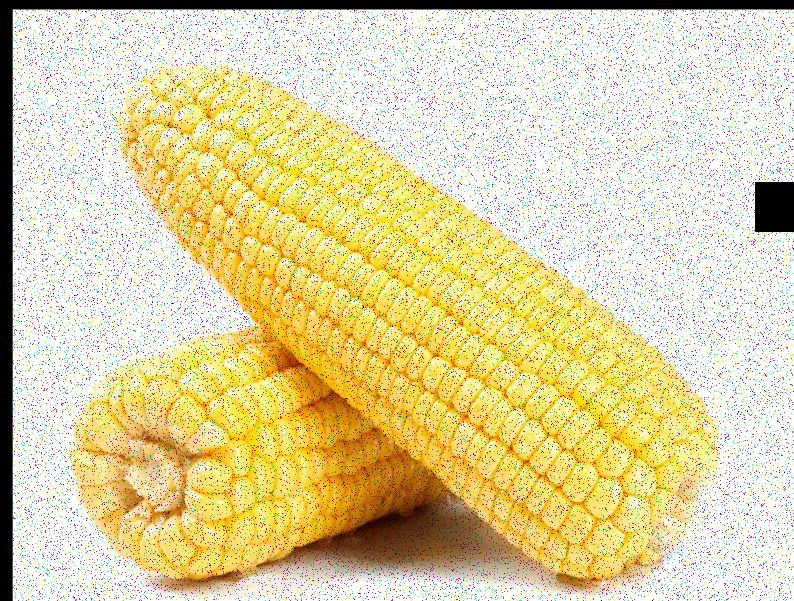corn: (121, 61, 698, 551), (69, 297, 563, 579)
